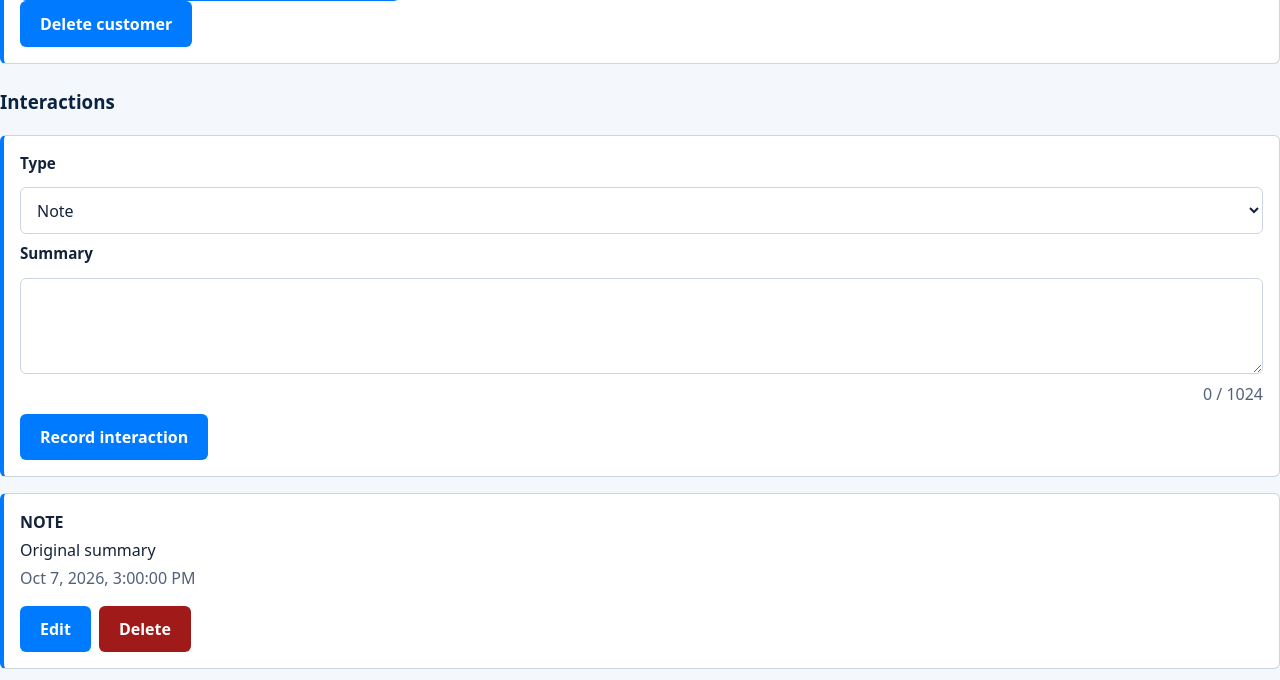
Test: CustomerProfilePageComponent › shows a delete conflict without retrying or refetching
The width and height of the screenshot is (1280, 680).
(page scrolled)
Click the button with test id "interaction-delete".
click(145, 629)  # box [99,606,191,652]
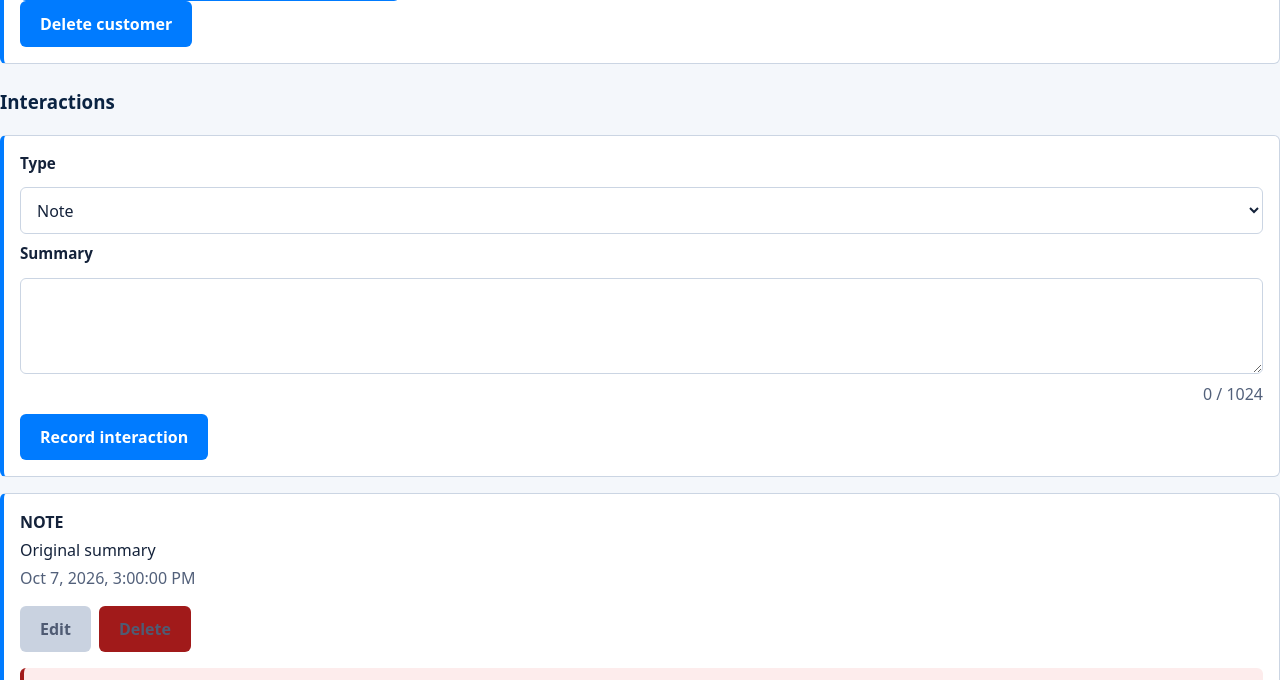
expect the button with test id "interaction-delete" is disabled: met, box [99,606,191,652]
